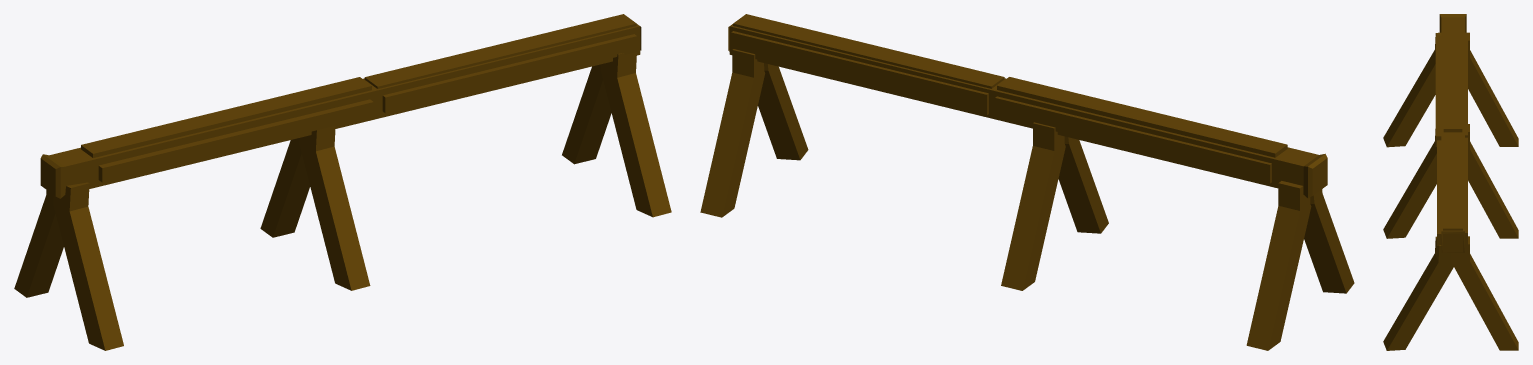
File: baricade.fbx
3 views of the same model, side by side, from view 1: azimuth 30°, elevation 25°; view 2: azimuth 150°, elevation 25°; view 3: azimuth 270°, elevation 25° (orthographic). The views are drawn at different scales.
Parts seen in each view (by area): view 1: Cube.006; view 2: Cube.006; view 3: Cube.006.
Part boxes in pixels (x1=…): Cube.006: x1=14, y1=14, x2=671, y2=350; Cube.006: x1=700, y1=14, x2=1354, y2=350; Cube.006: x1=1383, y1=14, x2=1518, y2=350.
Size of the model in its own units: 475 by 127 by 125.
